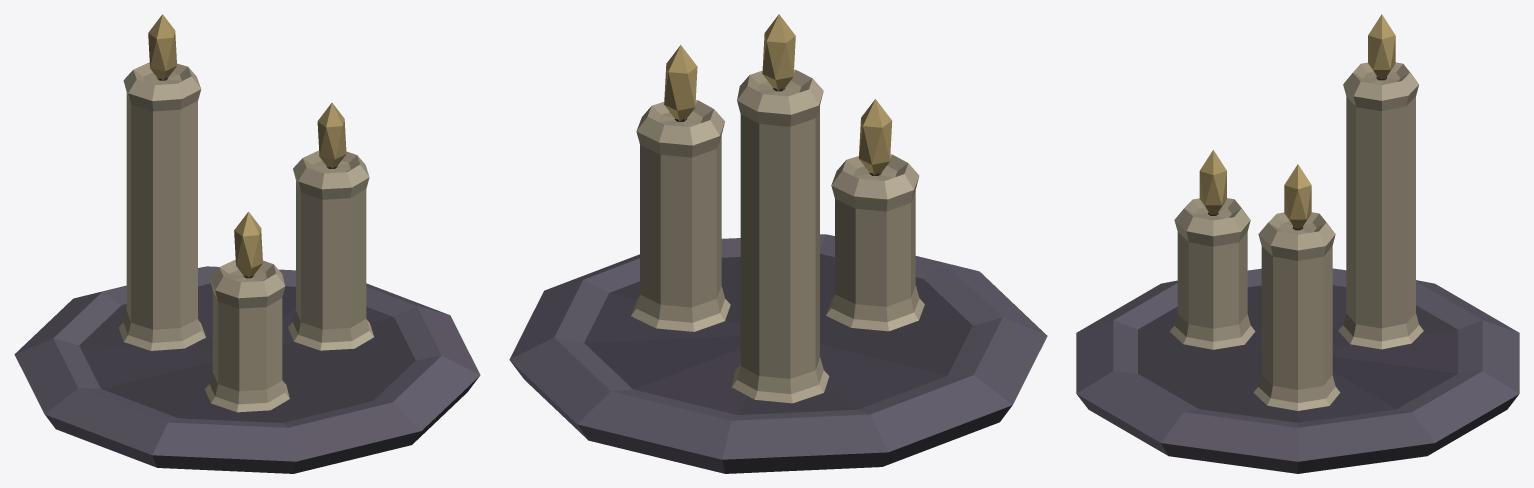
The picture shows the model from 3 angles, left to right: view 1: azimuth 30°, elevation 25°; view 2: azimuth 150°, elevation 25°; view 3: azimuth 270°, elevation 25°; orthographic projection. The views are drawn at different scales.
Visible parts, largest first — view 1: tower-candles; view 2: tower-candles; view 3: tower-candles.
Boxes of the visible parts, x1=… form: tower-candles: x1=14, y1=14, x2=480, y2=473; tower-candles: x1=509, y1=14, x2=1047, y2=473; tower-candles: x1=1076, y1=14, x2=1519, y2=473.
Size of the model in its own units: 0.72 by 0.59 by 0.6848.
